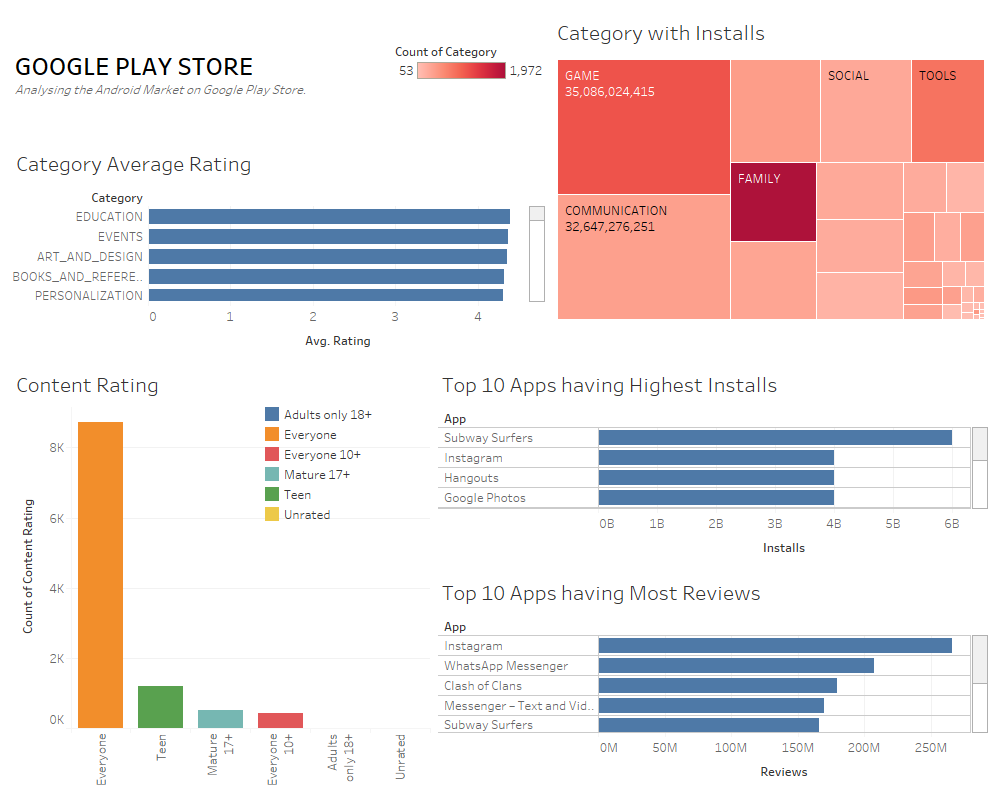

Layout of this report page (visuals, bound fields, positions):
{"tool":"tableau","page":{"name":"Dashboard 1","canvas":[1000,800],"ordinal":0},"visuals":[{"type":"worksheet","box":[0,0,1000,800]},{"type":"worksheet","param":"horz","box":[8,8,984,784]},{"type":"worksheet","param":"horz","box":[8,8,984,784]},{"type":"worksheet","box":[8,8,984,784]},{"type":"worksheet","box":[8,8,541,131]},{"type":"worksheet","title":"Sheet 4","mark":"Automatic","box":[549,8,443,331]},{"type":"worksheet","title":"Sheet 4","mark":"Automatic","param":"[federated.0xjvlki0dumk0t1ba98nq0kq3cyf].[cnt:Category:qk]","box":[402,64,152,79]},{"type":"worksheet","title":"Sheet 1","mark":"Automatic","rows":["Category"],"cols":["Rating"],"box":[8,139,541,200]},{"type":"worksheet","title":"Sheet 2","mark":"Automatic","rows":["Content Rating"],"cols":["Content Rating"],"box":[8,339,426,453]},{"type":"worksheet","title":"Sheet 5","mark":"Automatic","rows":["App"],"cols":["Installs"],"box":[434,339,558,238]},{"type":"worksheet","title":"Sheet 2","mark":"Automatic","rows":["Content Rating"],"cols":["Content Rating"],"param":"[federated.0xjvlki0dumk0t1ba98nq0kq3cyf].[none:Content Rating:nk]","box":[272,482,152,139]},{"type":"worksheet","title":"Sheet 6","mark":"Automatic","rows":["App"],"cols":["Reviews"],"box":[434,577,558,215]}]}

Visuals, with their boxes in screenshot pixels (x1, y1, x2, y2), scaled from the page's 1000x800 canvas onto the 1000x800 screenshot:
worksheet: l=0, t=0, r=999, b=799
worksheet: l=8, t=8, r=992, b=792
worksheet: l=8, t=8, r=992, b=792
worksheet: l=8, t=8, r=992, b=792
worksheet: l=8, t=8, r=549, b=139
"Sheet 4" worksheet: l=549, t=8, r=992, b=339
"Sheet 4" worksheet: l=402, t=64, r=554, b=143
"Sheet 1" worksheet: l=8, t=139, r=549, b=339
"Sheet 2" worksheet: l=8, t=339, r=434, b=792
"Sheet 5" worksheet: l=434, t=339, r=992, b=577
"Sheet 2" worksheet: l=272, t=482, r=424, b=621
"Sheet 6" worksheet: l=434, t=577, r=992, b=792
